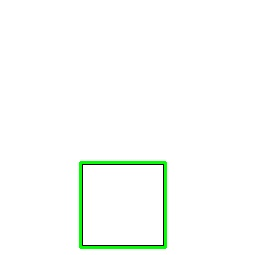line_segment: (79, 161, 167, 249)
